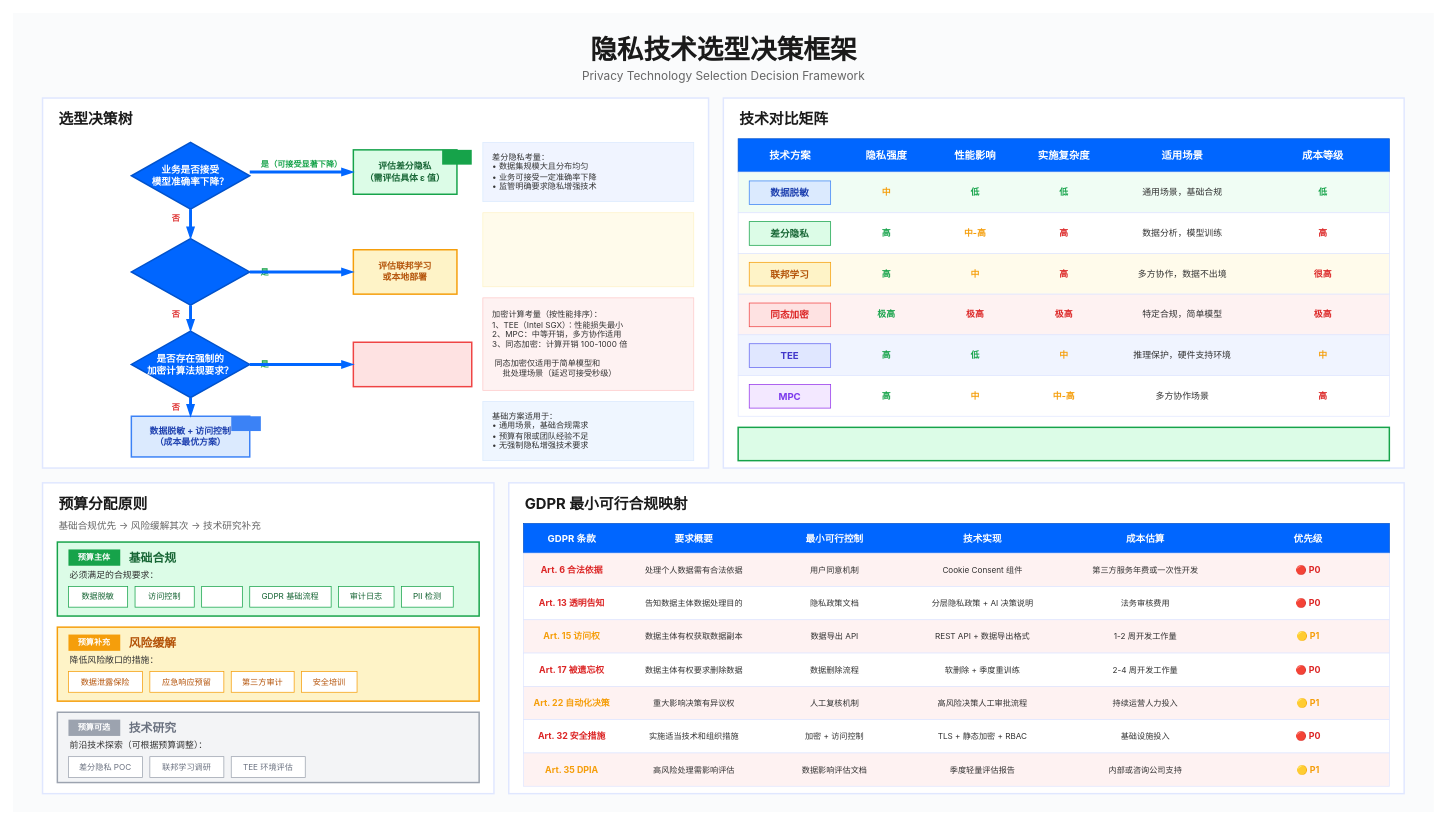
The diagram is 1446 pixels wide and 824 high, and some of its shapes have lost their labels. Here are the shapes that lost their labels. From the top down, the centre of each, then its label:
At point (456, 156): "推荐".
At point (588, 249): "联邦学习考量： • 参与方数量 ≥ 10 个时规模效益显现 • 存在数据不能出境的合规要求 • 预算支持 6 个月以上实施周期 • 少于 5 方时本地部署更经济".
At point (190, 272): "是否存在数据跨境/ 跨组织共享需求？".
At point (412, 364): "评估 TEE / MPC / 同态加密（按性能优先级）".
At point (245, 423): "默认".
At point (1063, 443): "推荐路径：数据脱敏 → 需要更强保护时评估差分隐私 → 跨境需求评估联邦学习 → 强制加密计算要求评估 TEE/MPC".
At point (221, 596): "DLP".
